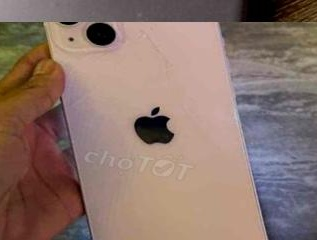physical_damage: (100, 142, 187, 188), (120, 22, 193, 70), (165, 101, 231, 137), (202, 131, 264, 167), (106, 194, 158, 235), (87, 110, 139, 146), (105, 169, 161, 202), (81, 84, 135, 116), (151, 68, 200, 103), (106, 61, 151, 92), (159, 221, 215, 240), (78, 226, 148, 240), (204, 226, 264, 240), (59, 98, 88, 124), (135, 229, 186, 240)
scratch: (116, 0, 175, 22), (33, 8, 75, 22), (202, 14, 222, 22)
